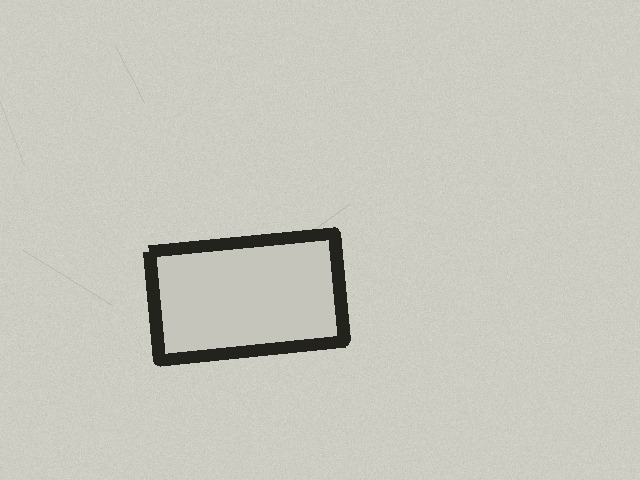parking_area: (149, 233, 344, 360)
